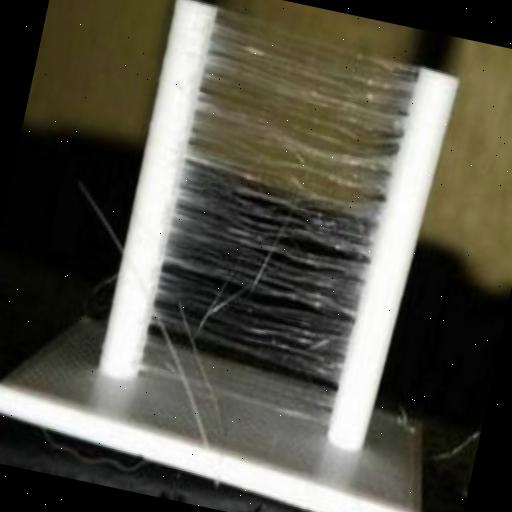stringing: (138, 11, 420, 427)
